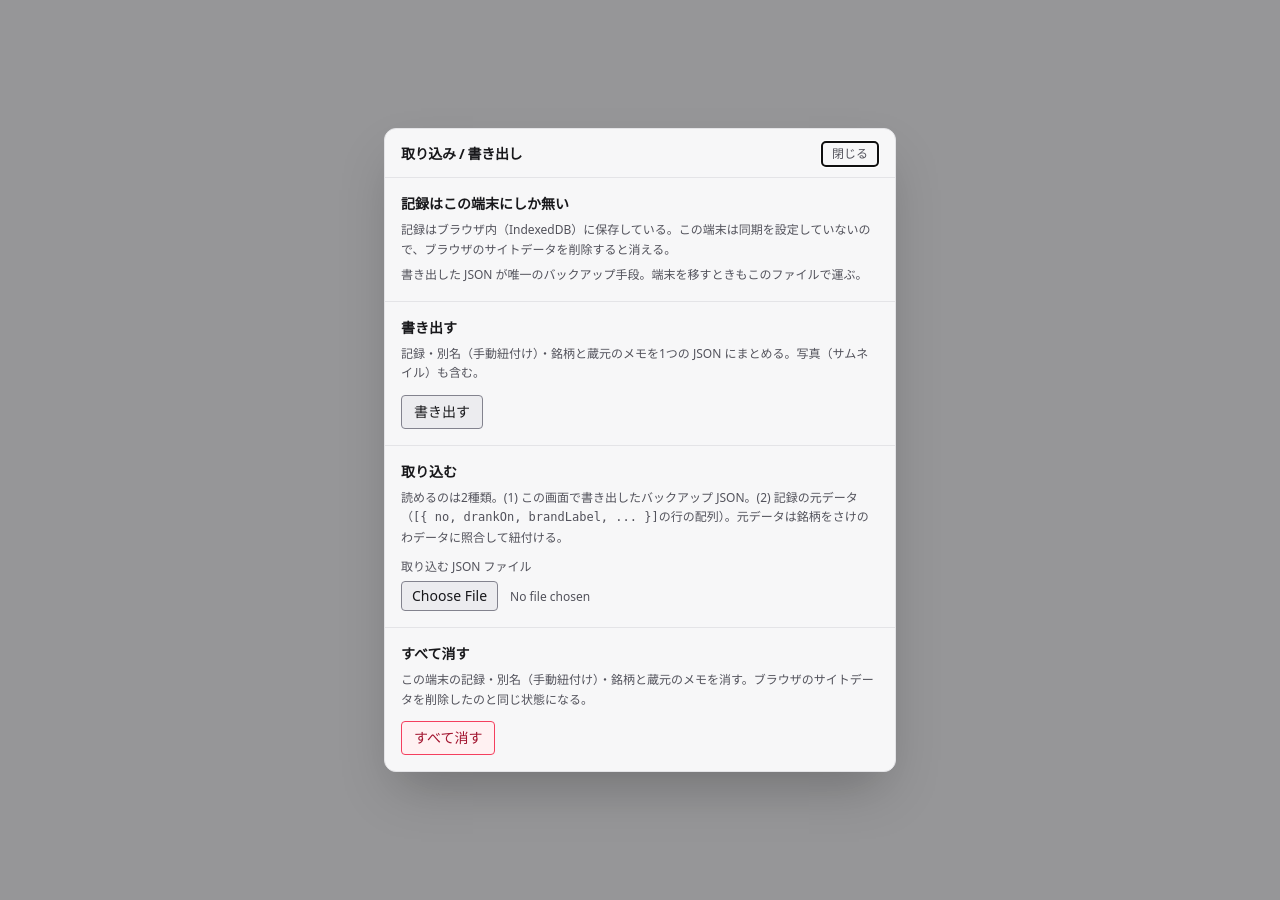
Test case: ImportExportPanel との配線 › 書き出しに成功すると lastExportedAt が書かれる(次から経過日数を数えられる)
Click the button "書き出す".
click(442, 412)  # box [401,394,483,428]
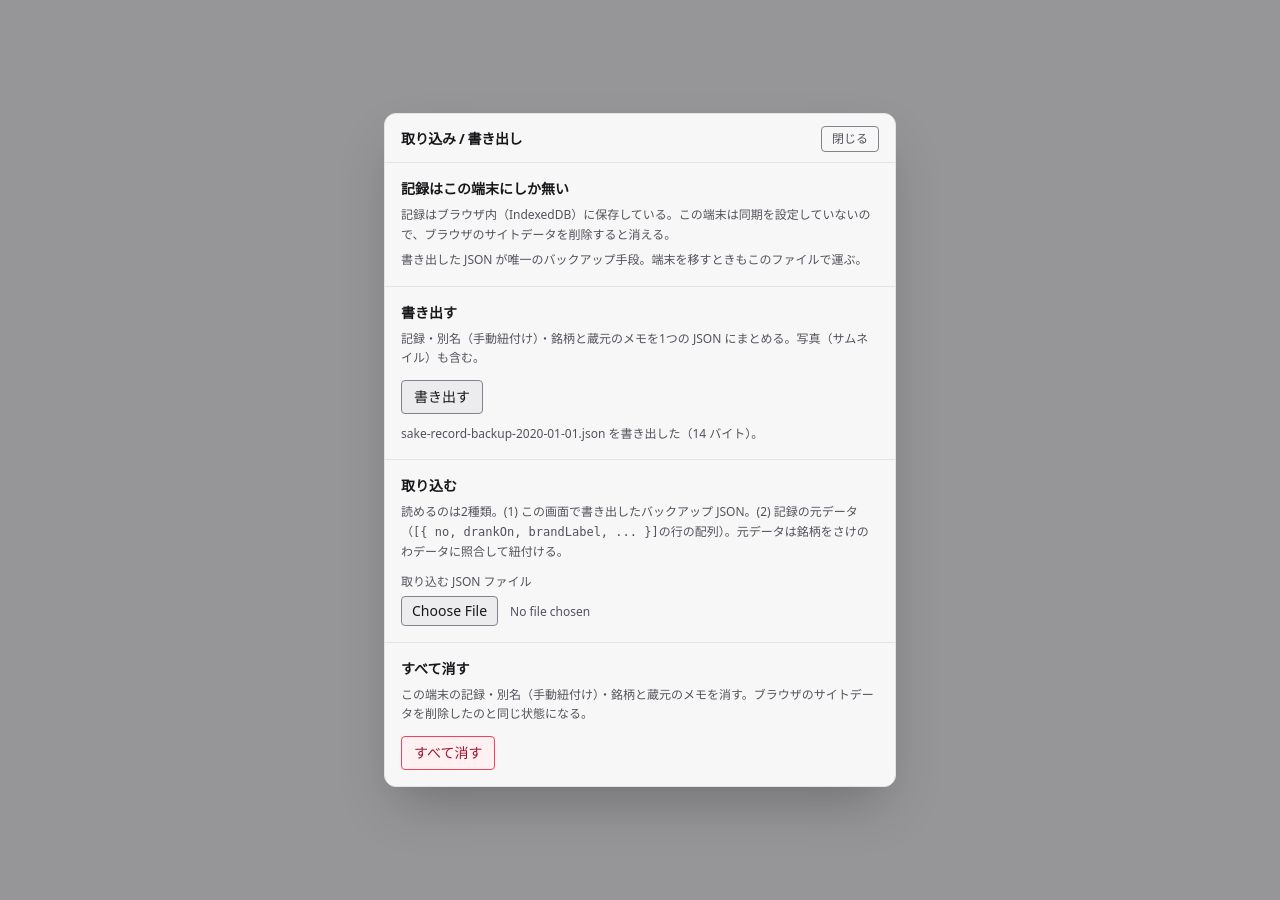
Expected: the text "sake-record-backup-2020-01-01.json を書き出した（14 バイト）。" is shown, [401,425,763,442]
